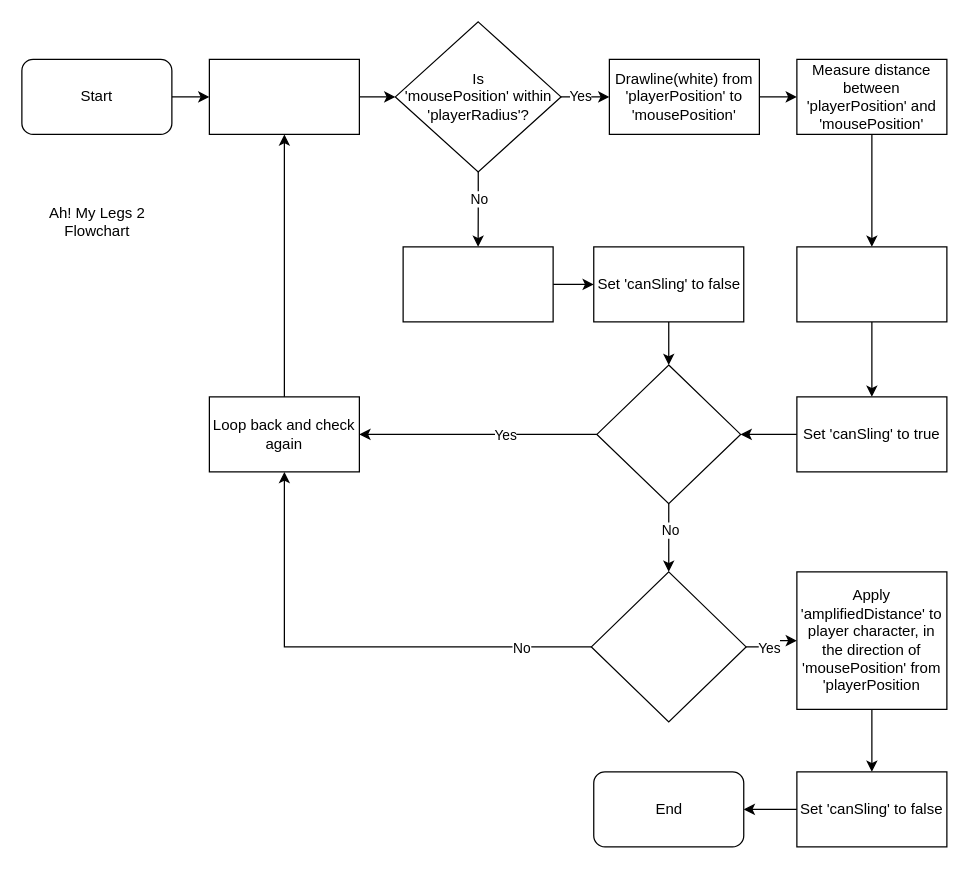
Some shapes in this 969 by 869 pixel diagram are drawn without their labels. The shapes that lost their labels are listed below. From the top down, each one's box as (x1, y1, x2, y2) in pixels, then its label:
(208, 58, 359, 134): If Mouse0 is held down
(402, 246, 553, 322): Drawline(red) from 'playerPosition' to 'mousePosition'
(796, 246, 947, 322): Store result in 'amplifiedDistance'
(596, 364, 741, 504): Is Mouse0 still held down?
(590, 571, 746, 722): Is 'canSling' set to true?
